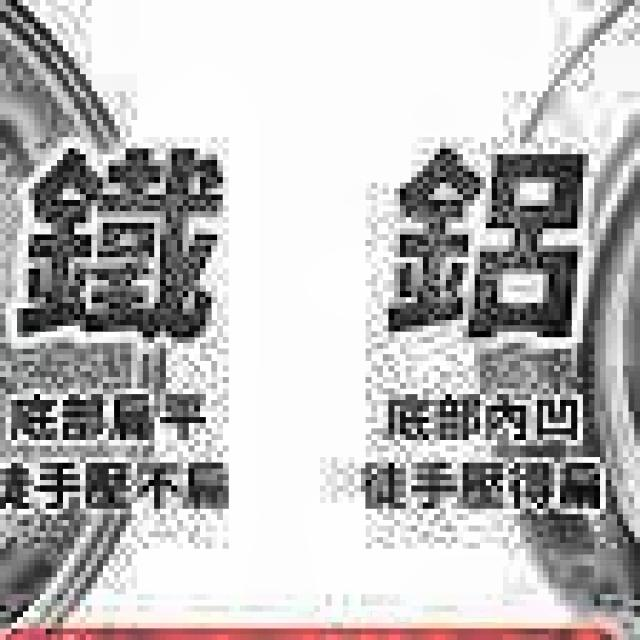metal: (463, 0, 640, 640), (0, 0, 177, 640)
